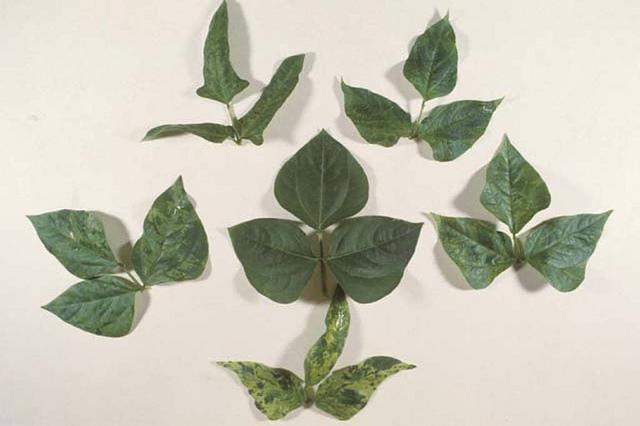Soyabean leaf: (274, 126, 369, 230), (324, 216, 425, 306), (525, 204, 613, 298), (225, 216, 318, 302), (429, 205, 515, 295), (481, 135, 553, 234)
